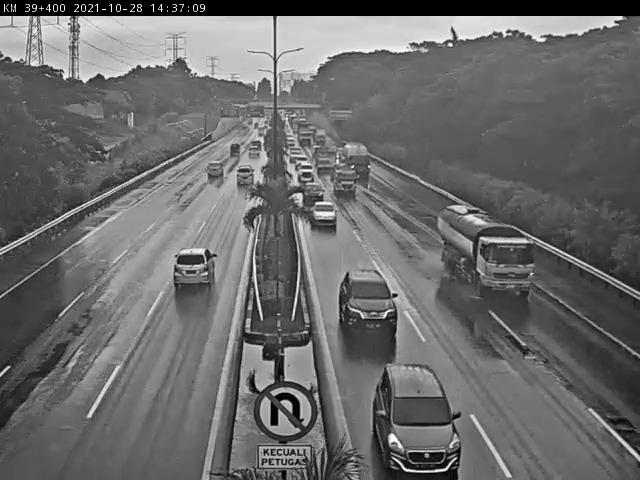car: (364, 356, 463, 463), (338, 265, 400, 343), (169, 241, 221, 297), (307, 200, 339, 230), (298, 177, 323, 199), (205, 156, 227, 180), (233, 165, 255, 189), (295, 159, 316, 182), (226, 142, 244, 160), (317, 155, 333, 173), (246, 143, 261, 158), (248, 139, 261, 152)
small truck: (435, 198, 535, 300), (336, 135, 373, 181)
